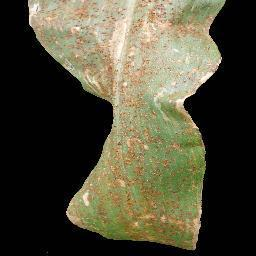Corn_Common_Rust: (117, 0, 224, 252), (23, 0, 116, 110), (64, 136, 116, 244), (106, 109, 117, 136)
